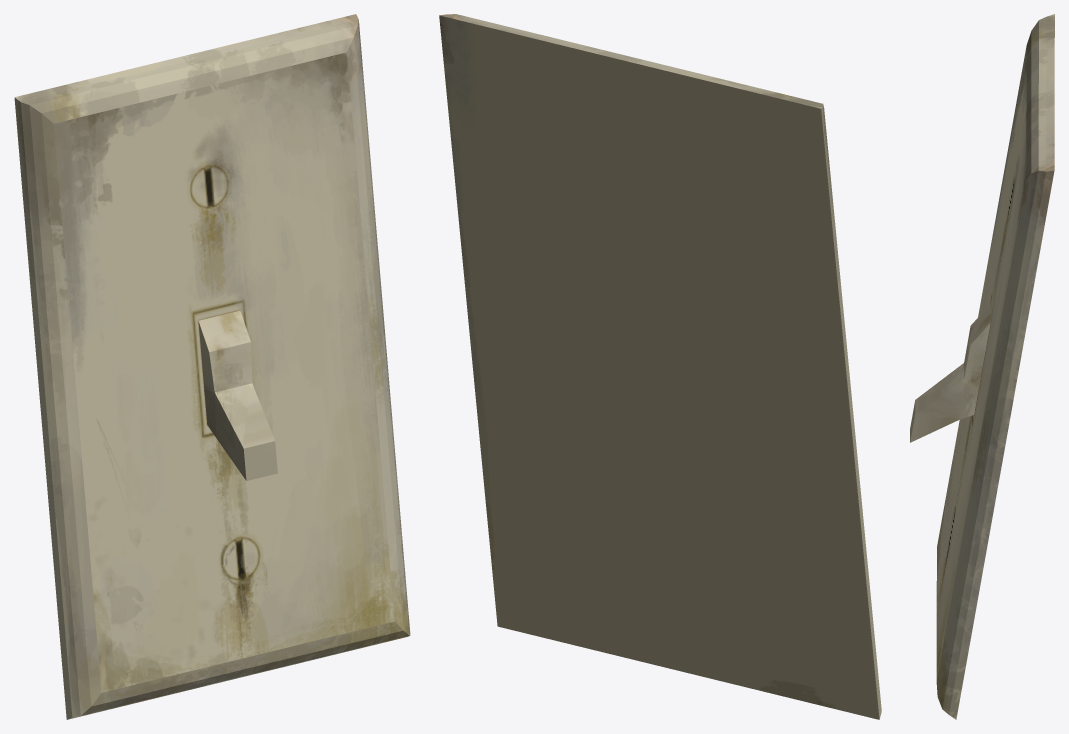
File: Light Switch.fbx
The picture shows the model from 3 angles, left to right: view 1: azimuth 30°, elevation 25°; view 2: azimuth 150°, elevation 25°; view 3: azimuth 270°, elevation 25°; orthographic projection. The views are drawn at different scales.
Parts seen in each view (by area): view 1: lightswitch; view 2: lightswitch; view 3: lightswitch.
Part boxes in pixels (x1,y1,x2,y2): lightswitch: (14,14,410,719); lightswitch: (439,14,881,719); lightswitch: (910,14,1054,719).
Size of the model in its own units: 204 by 333 by 79.55.
